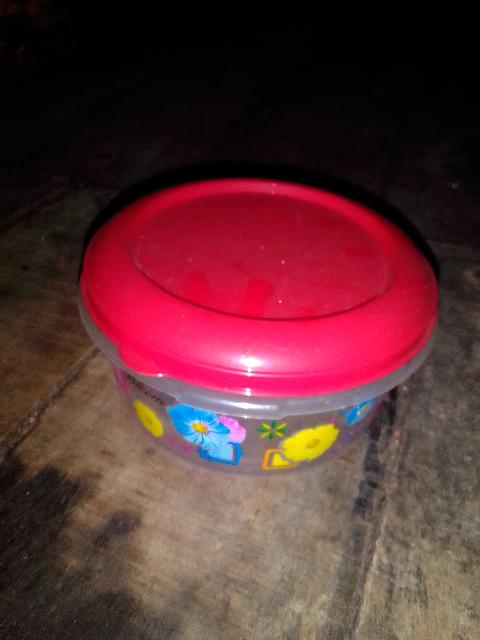hardplastic: (73, 166, 453, 490)
